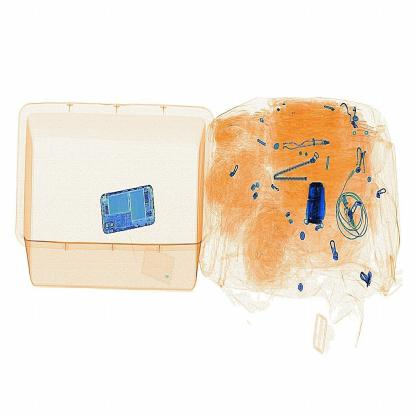scissors: (298, 177, 336, 236)
